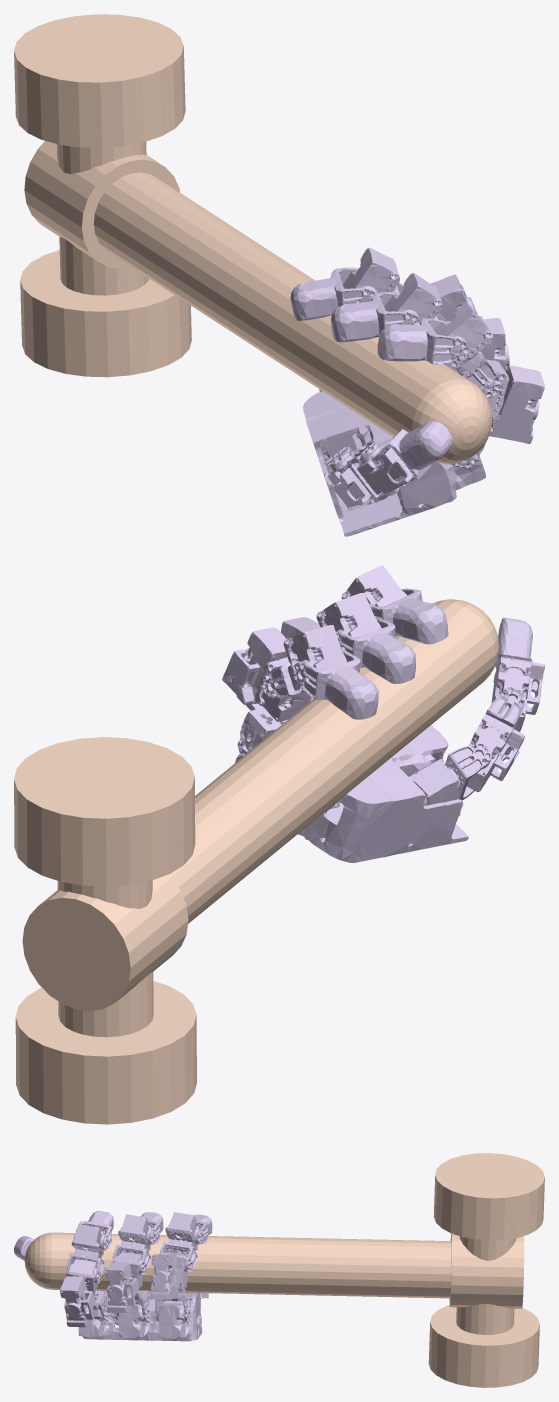
3 renders of one model, top to bottom at view 1: azimuth 30°, elevation 25°; view 2: azimuth 150°, elevation 25°; view 3: azimuth 270°, elevation 25°, orthographic. The views are drawn at different scales.
Visible parts, largest first — view 1: world, LEAP_hand; view 2: world, LEAP_hand; view 3: world, LEAP_hand.
Part boxes in pixels (x1,y1,x2,y2): world: (14,14,492,464); LEAP_hand: (290,247,544,536); world: (14,599,499,1124); LEAP_hand: (222,565,544,862); world: (24,1153,544,1387); LEAP_hand: (14,1210,212,1341).
Bounding box in the file's own units: 0.1645 × 0.2197 × 0.5511.
